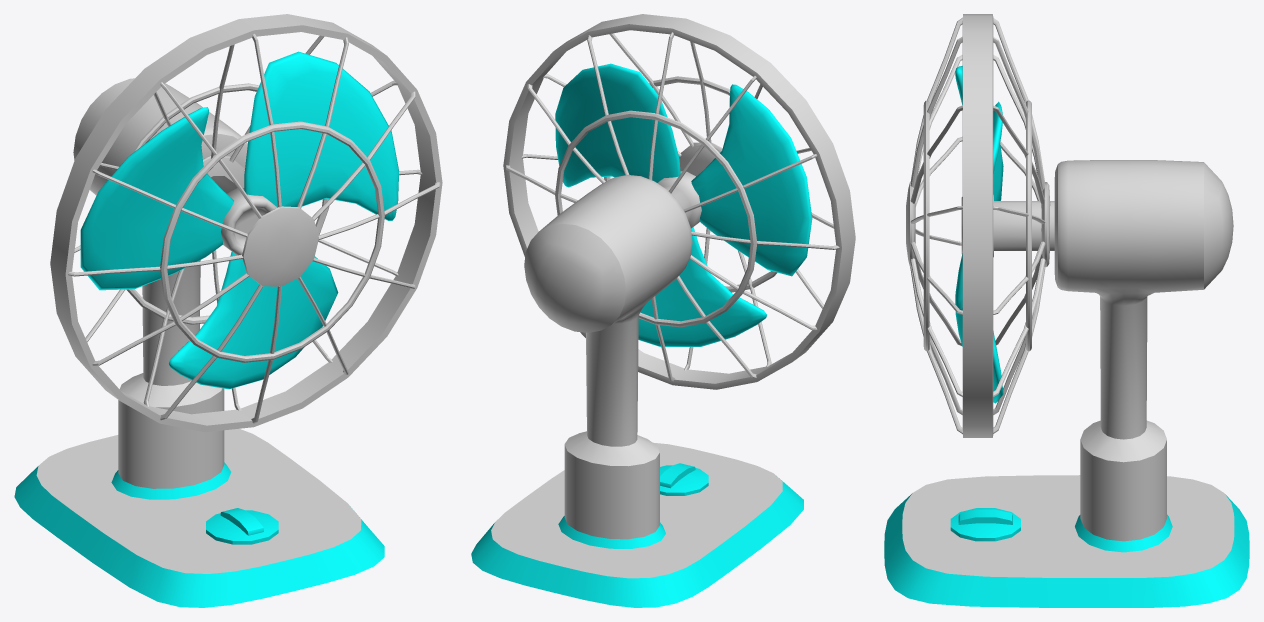
The model's file is KipasAgin.fbx.
3 renders of one model, left to right at view 1: azimuth 30°, elevation 25°; view 2: azimuth 150°, elevation 25°; view 3: azimuth 270°, elevation 25°, orthographic. The views are drawn at different scales.
Parts seen in each view (by area): view 1: Kipas, BalingBaling; view 2: Kipas, BalingBaling; view 3: Kipas, BalingBaling.
Boxes of the visible parts, x1,y1,x2,y2 form: Kipas: (14, 14, 442, 607); BalingBaling: (80, 51, 399, 389); Kipas: (471, 14, 855, 607); BalingBaling: (555, 63, 812, 346); Kipas: (884, 14, 1249, 607); BalingBaling: (955, 66, 1054, 403).
Size of the model in its own units: 35.97 by 48.44 by 31.05.
